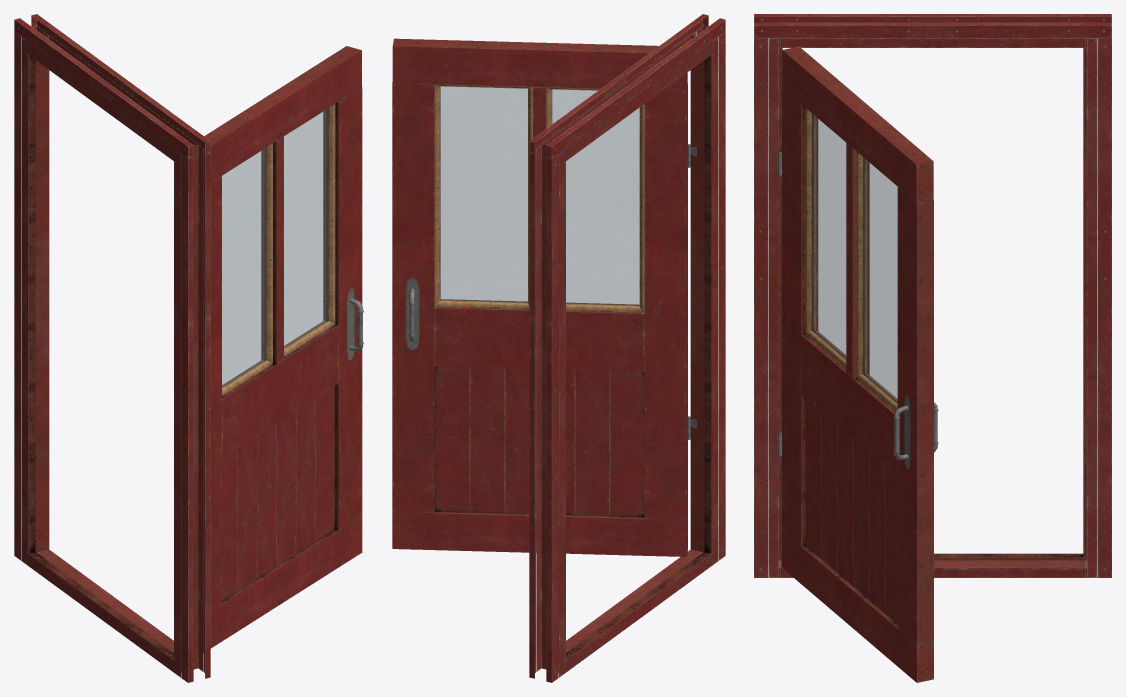
File: door.glb
The picture shows the model from 3 angles, left to right: view 1: azimuth 30°, elevation 25°; view 2: azimuth 150°, elevation 25°; view 3: azimuth 270°, elevation 25°; orthographic projection. The views are drawn at different scales.
Parts seen in each view (by area): view 1: Object_4, Object_3; view 2: Object_4, Object_3, Object_2; view 3: Object_4, Object_3.
Boxes of the visible parts, x1,y1,x2,y2 form: Object_4: (14, 14, 363, 682); Object_3: (222, 109, 327, 387); Object_4: (392, 14, 725, 682); Object_3: (441, 86, 639, 305); Object_2: (405, 278, 419, 349); Object_4: (754, 14, 1111, 682); Object_3: (812, 114, 897, 402).
Size of the model in its own units: 5.14 by 10.41 by 6.11.
3 materials, 3 textured.
